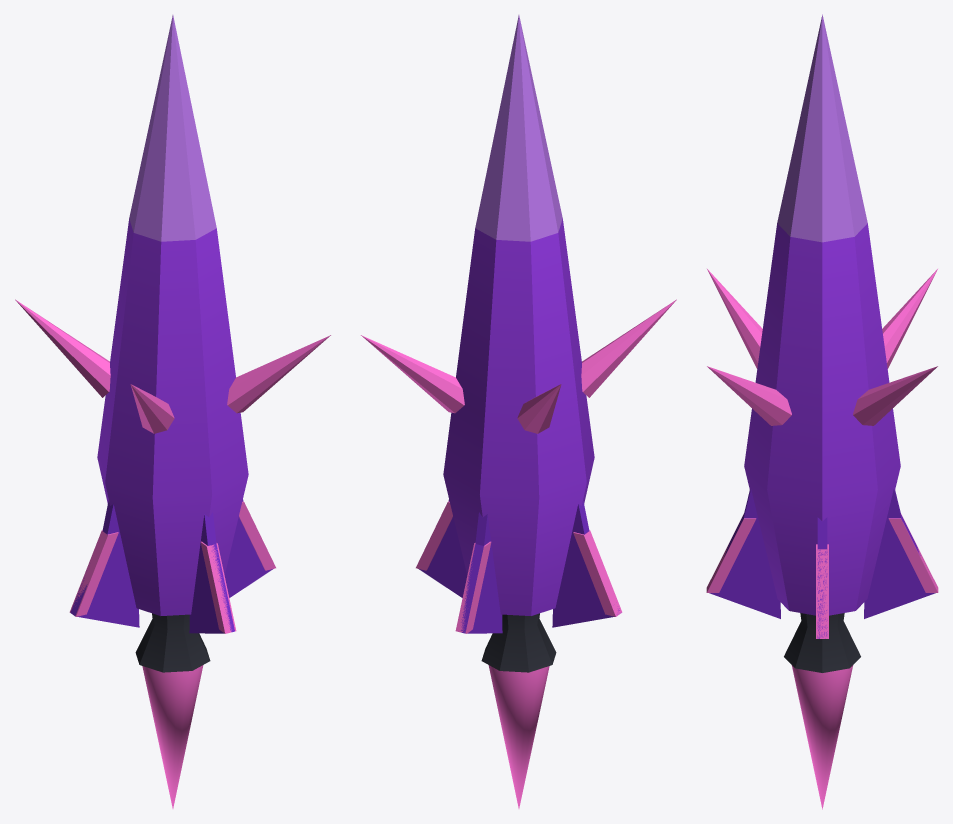
The model's file is Rocket_33_AmethystShard.fbx.
3 renders of one model, left to right at view 1: azimuth 30°, elevation 25°; view 2: azimuth 150°, elevation 25°; view 3: azimuth 270°, elevation 25°, orthographic.
Parts seen in each view (by area): view 1: R33_Body, R33_Nose, R33_Flame_1, R33_Fin_2, R33_Nozzle_1, R33_Fin_3, R33_Spike_4, R33_Spike_2, R33_Fin_4, R33_FinGlow_2, R33_FinGlow_3, R33_Spike_3 (+1 smaller); view 2: R33_Body, R33_Nose, R33_Flame_1, R33_Nozzle_1, R33_Fin_2, R33_Fin_1, R33_Spike_1, R33_Spike_3, R33_Fin_4, R33_FinGlow_2, R33_Spike_2, R33_FinGlow_1 (+1 smaller); view 3: R33_Body, R33_Nose, R33_Flame_1, R33_Fin_3, R33_Fin_1, R33_Nozzle_1, R33_Spike_1, R33_Spike_4, R33_Spike_2, R33_Spike_3, R33_FinGlow_4, R33_FinGlow_1 (+2 smaller).
Part boxes in pixels (box(x1,y1,x2,y2)): R33_Body: box(97, 218, 248, 615); R33_Nose: box(129, 15, 216, 241); R33_Flame_1: box(142, 665, 203, 808); R33_Fin_2: box(70, 500, 139, 627); R33_Nozzle_1: box(135, 613, 210, 672); R33_Fin_3: box(189, 512, 234, 633); R33_Spike_4: box(227, 335, 330, 413); R33_Spike_2: box(15, 299, 110, 397); R33_Fin_4: box(224, 499, 272, 597); R33_FinGlow_2: box(69, 530, 118, 616); R33_FinGlow_3: box(200, 541, 236, 633); R33_Spike_3: box(130, 384, 174, 433); R33_Body: box(443, 218, 594, 615); R33_Nose: box(475, 15, 562, 241); R33_Flame_1: box(488, 665, 549, 808); R33_Nozzle_1: box(481, 613, 556, 672); R33_Fin_2: box(552, 500, 621, 627); R33_Fin_1: box(461, 512, 502, 633); R33_Spike_1: box(361, 335, 464, 413); R33_Spike_3: box(581, 299, 676, 397); R33_Fin_4: box(419, 499, 467, 597); R33_FinGlow_2: box(573, 530, 622, 616); R33_Spike_2: box(517, 384, 561, 433); R33_FinGlow_1: box(455, 541, 491, 633); R33_Body: box(744, 223, 900, 615); R33_Nose: box(777, 14, 867, 242); R33_Flame_1: box(791, 665, 853, 809); R33_Fin_3: box(709, 489, 780, 618); R33_Fin_1: box(864, 489, 935, 618); R33_Nozzle_1: box(784, 613, 860, 672); R33_Spike_1: box(853, 366, 937, 425); R33_Spike_4: box(707, 366, 791, 425); R33_Spike_2: box(882, 269, 937, 368); R33_Spike_3: box(707, 269, 762, 368); R33_FinGlow_4: box(816, 544, 828, 638); R33_FinGlow_1: box(888, 514, 938, 592).
Size of the model in its own units: 2.82 by 10.65 by 2.82.
